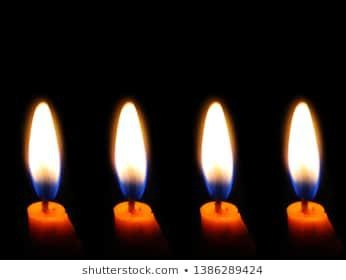fire: (25, 95, 63, 200), (112, 95, 149, 200), (199, 95, 235, 200), (285, 95, 321, 200)
